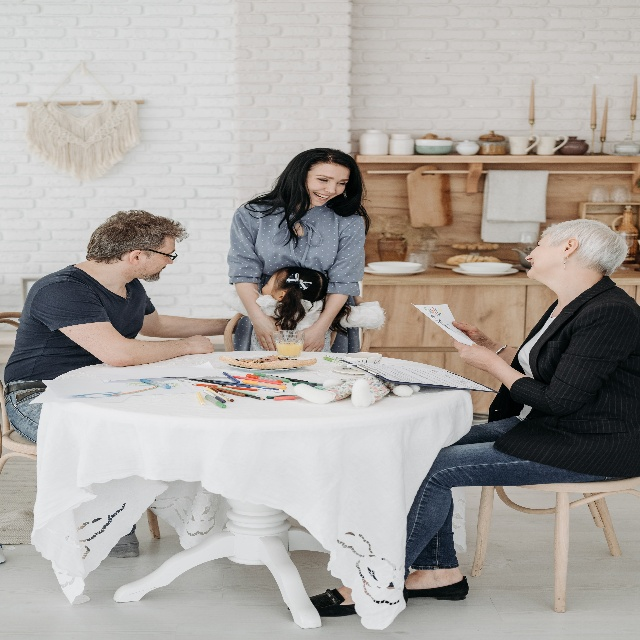Gafas: (130, 244, 177, 260)
Sin_guantes: (453, 337, 491, 374), (251, 310, 282, 351), (451, 317, 486, 346), (294, 321, 326, 352), (187, 334, 215, 354)
